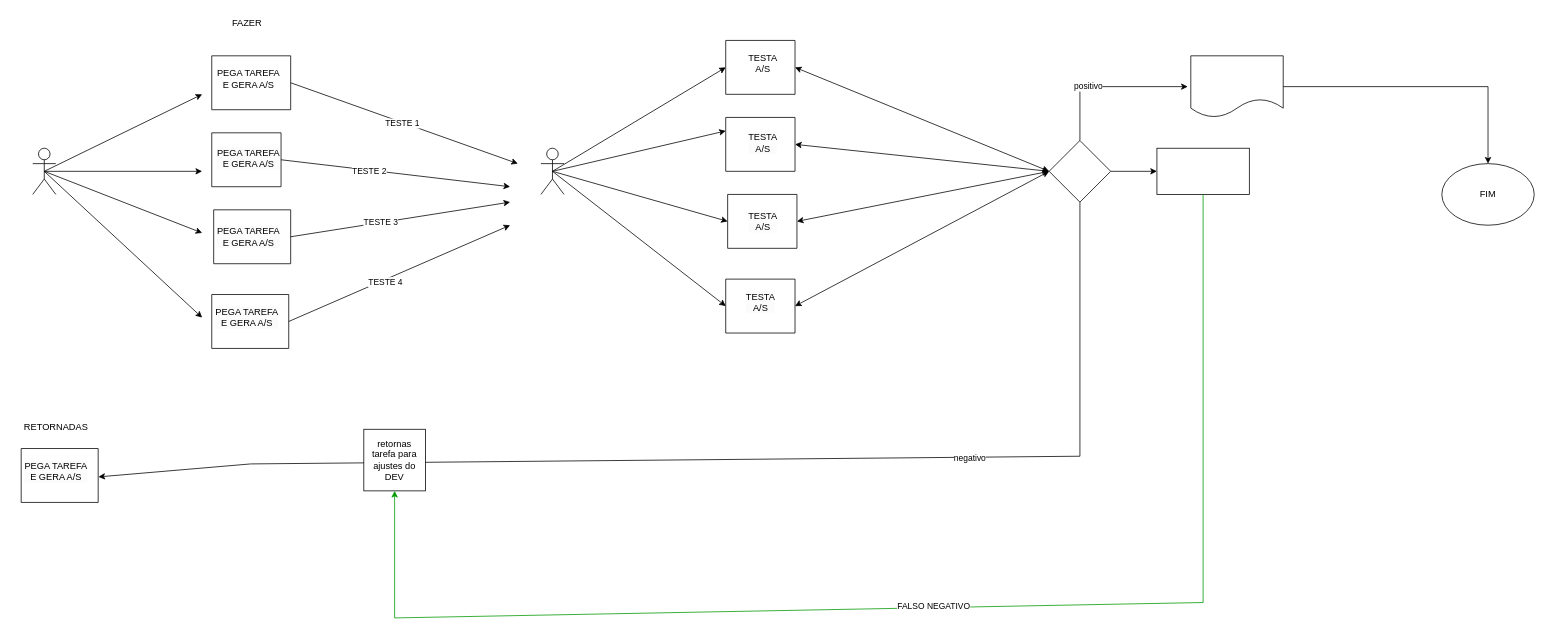
Image size: 1548x638. Some labels were removed from this diagram. The shapes that lost their labels are listed below. From the top down, each one's centre as x and y in pixels, then its label:
point 1236,86: alimenta a planilha solicita pullrequest
point 44,170: DEV
point 552,170: Actor
point 1079,171: validando teste
point 1202,170: TESTE FEITO COM A/S ERRADO
